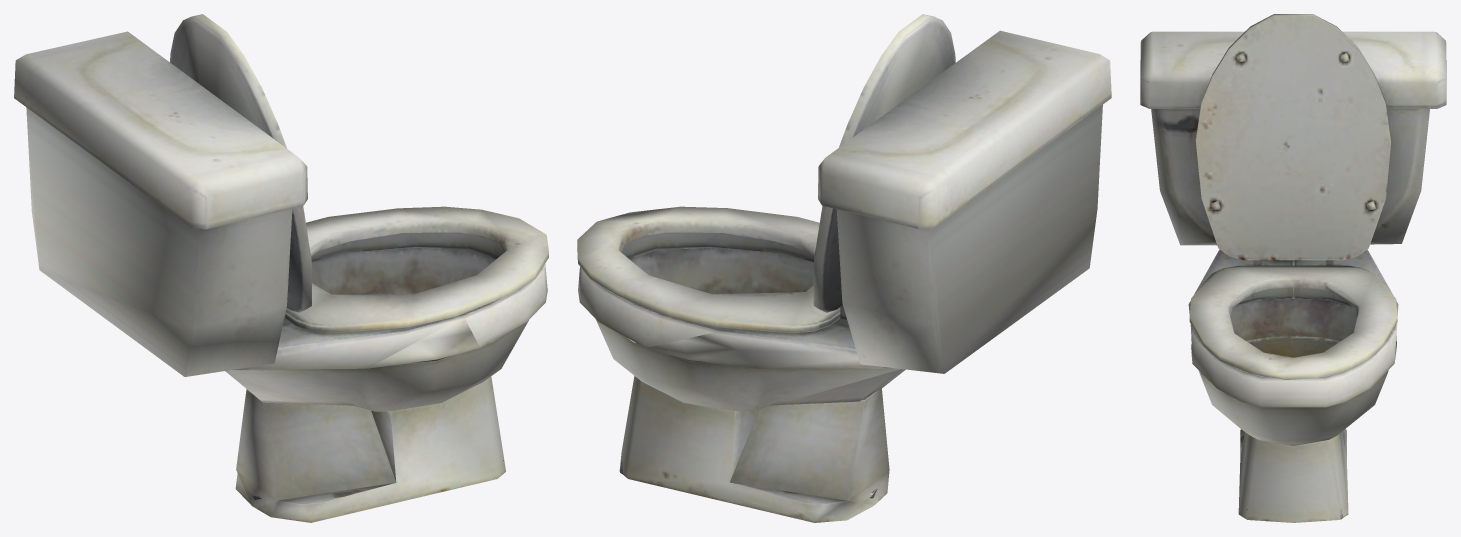
Rendered from toilet d.glb.
3 views of the same model, side by side, from view 1: azimuth 30°, elevation 25°; view 2: azimuth 150°, elevation 25°; view 3: azimuth 270°, elevation 25° (orthographic). The views are drawn at different scales.
Parts seen in each view (by area): view 1: toilet_d.smd; view 2: toilet_d.smd; view 3: toilet_d.smd.
Part boxes in pixels (left/top/right/bottom): toilet_d.smd: left=14, top=14, right=548, bottom=522; toilet_d.smd: left=577, top=14, right=1111, bottom=522; toilet_d.smd: left=1140, top=14, right=1446, bottom=522.
Size of the model in its own units: 0.7436 by 0.8015 by 0.5561.
Materials: 1 (1 with a texture image).
